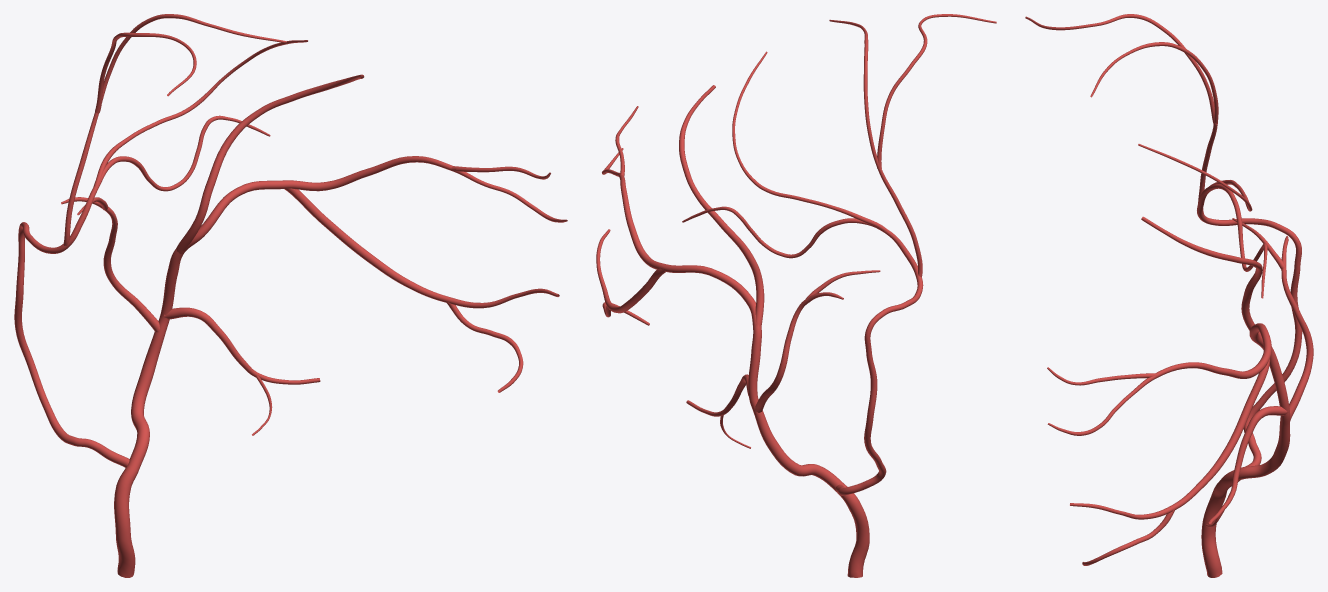
3 renders of one model, left to right at view 1: azimuth 30°, elevation 25°; view 2: azimuth 150°, elevation 25°; view 3: azimuth 270°, elevation 25°, orthographic. The views are drawn at different scales.
Visible parts, largest first — view 1: 左侧小脑下后动脉; view 2: 左侧小脑下后动脉; view 3: 左侧小脑下后动脉.
Part boxes in pixels (left/top/right/bottom): 左侧小脑下后动脉: left=14, top=14, right=567, bottom=577; 左侧小脑下后动脉: left=596, top=14, right=996, bottom=577; 左侧小脑下后动脉: left=1025, top=14, right=1313, bottom=577.
Bounding box in the file's own units: 0.069 × 0.0885 × 0.0422.
